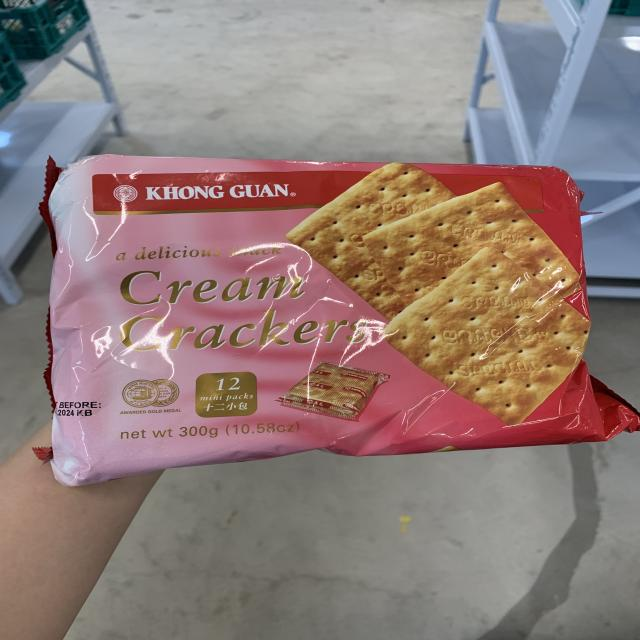object_name: (43, 165, 597, 445)
